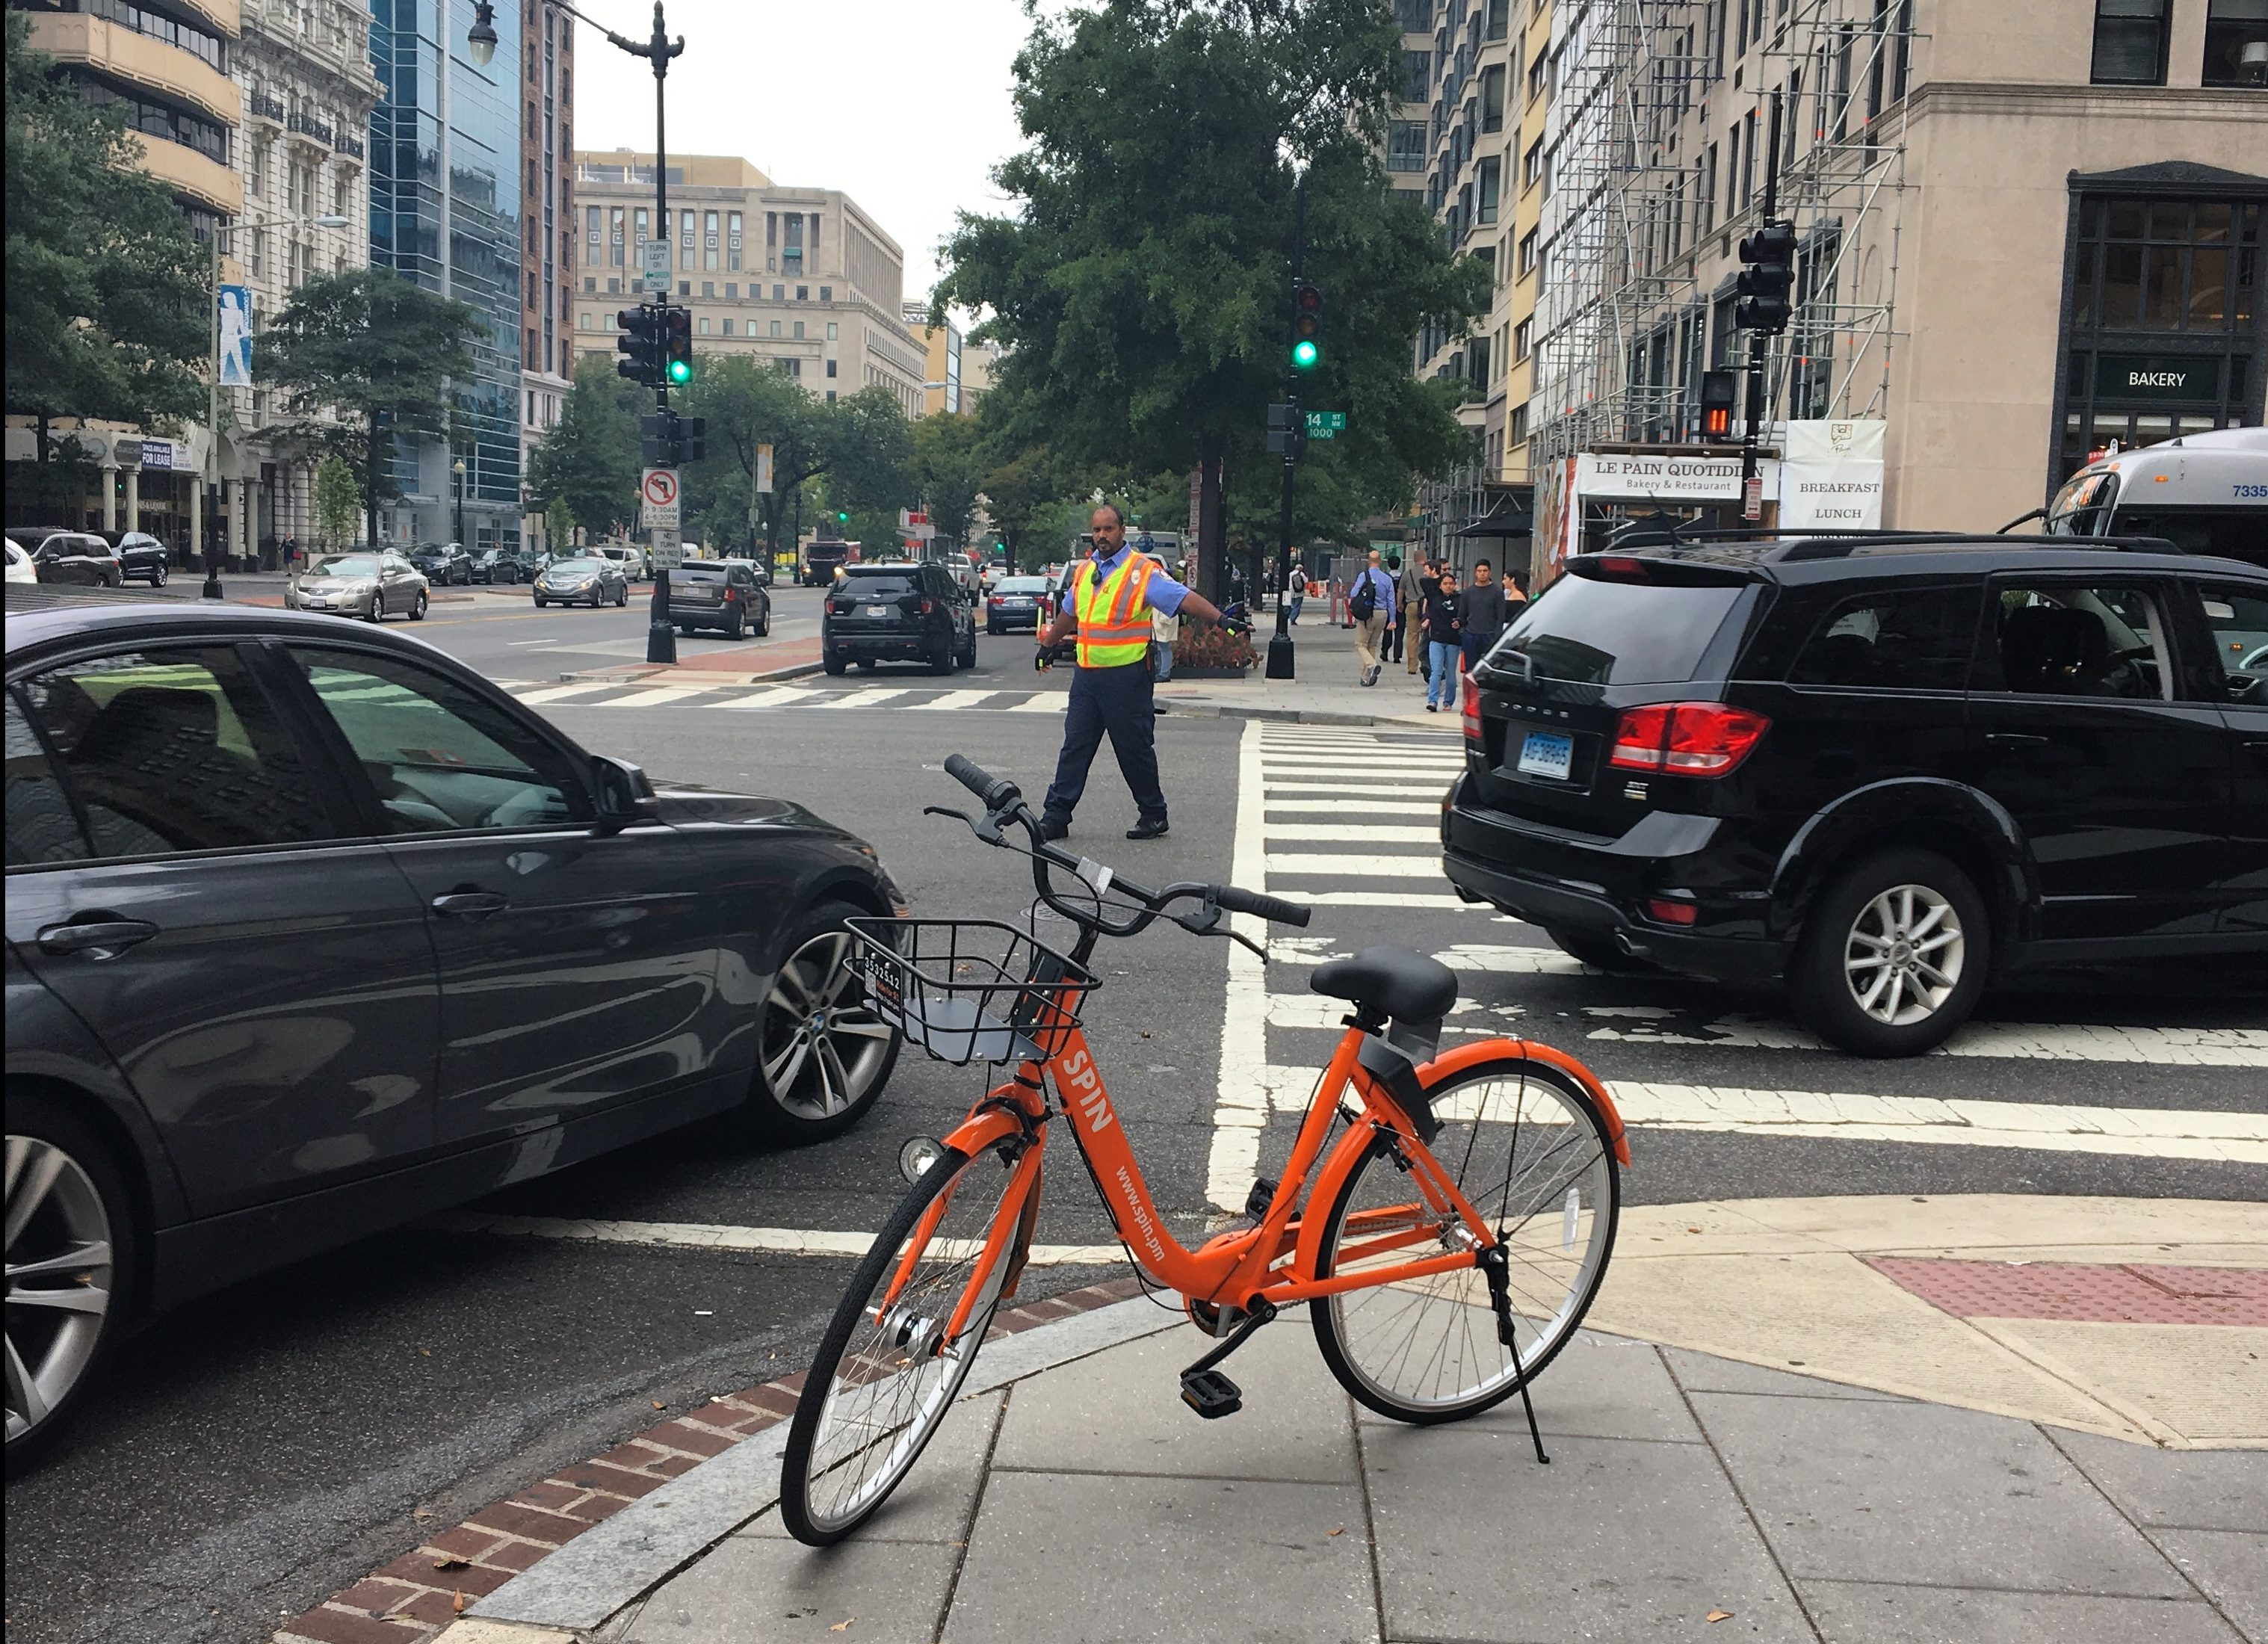bike: (784, 722, 1645, 1596)
